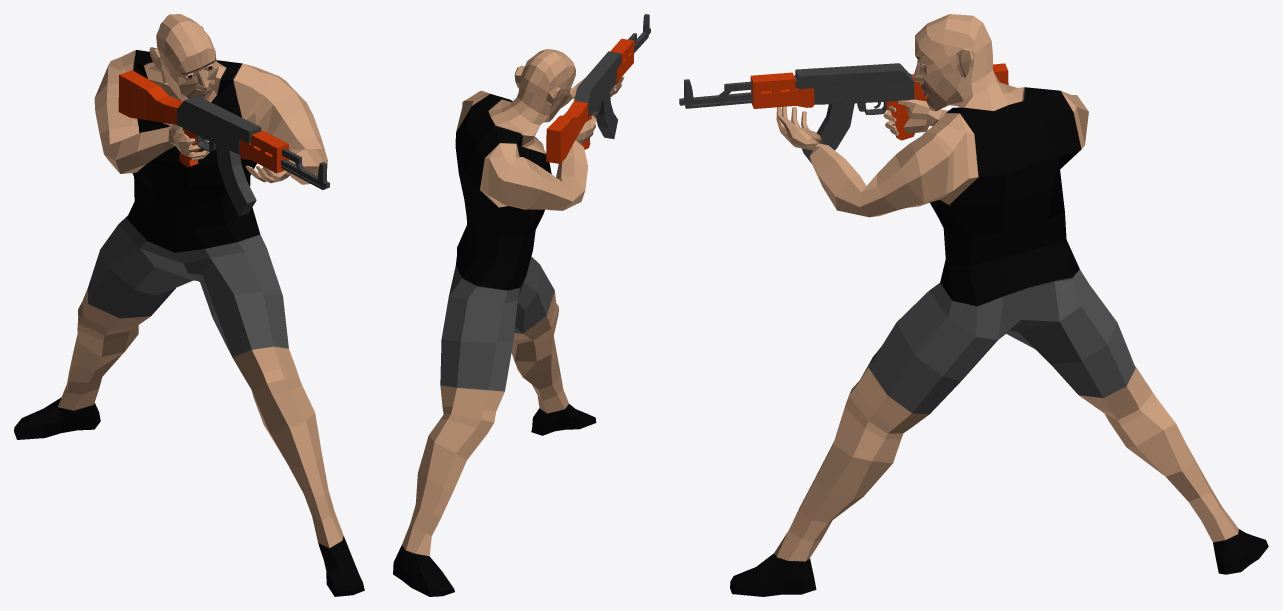
The model's file is PlayerShoot(1).obj.
The picture shows the model from 3 angles, left to right: view 1: azimuth 30°, elevation 25°; view 2: azimuth 150°, elevation 25°; view 3: azimuth 270°, elevation 25°; orthographic projection. The views are drawn at different scales.
Visible parts, largest first — view 1: Plane002, Object001; view 2: Plane002, Object001; view 3: Plane002, Object001.
Part boxes in pixels (<box>): Plane002: <box>14,14,364,596</box>; Object001: <box>118,70,329,216</box>; Plane002: <box>393,49,624,596</box>; Object001: <box>546,14,650,163</box>; Plane002: <box>730,14,1268,596</box>; Object001: <box>679,63,1008,163</box>.
Bounding box in the file's own units: 543 × 1624 × 1610.
